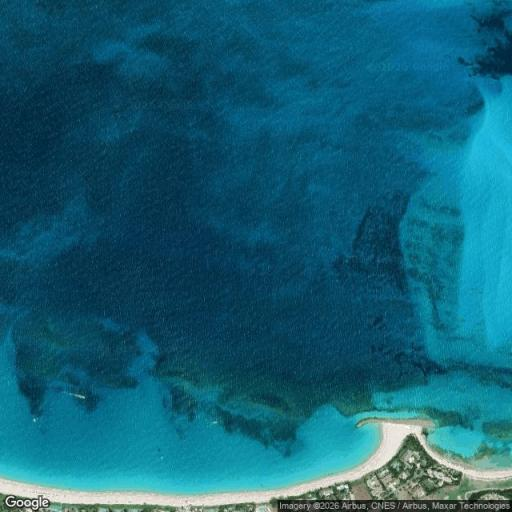ship: (49, 382, 109, 414)
